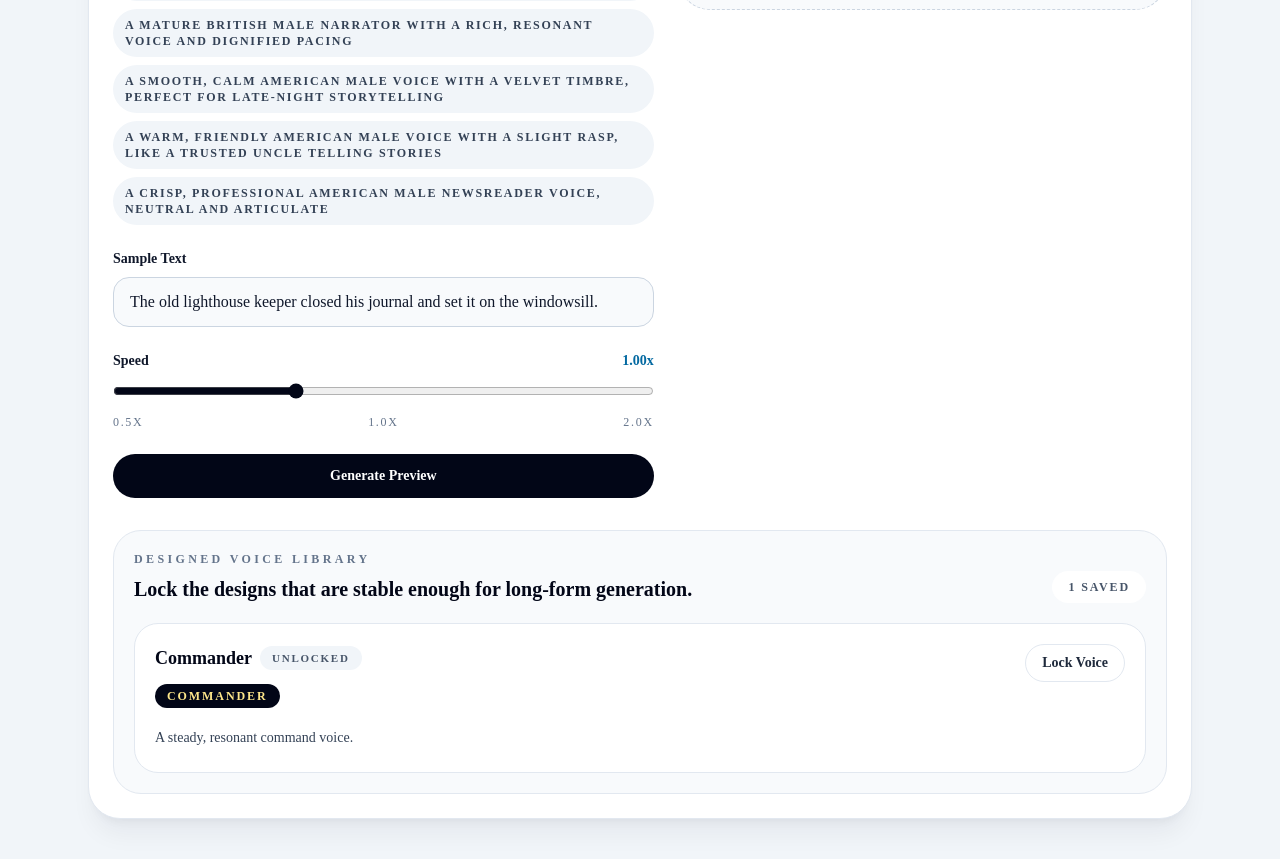
Test: VoiceLab page › locks and unlocks a designed voice from the designed voice library
(page scrolled)
Expected: the element that starts with "Commander" shows "Unlocked", [272,652,350,664]
Step 1. Click the button "Lock Voice" → (1075, 663), box [1025,644,1125,682]
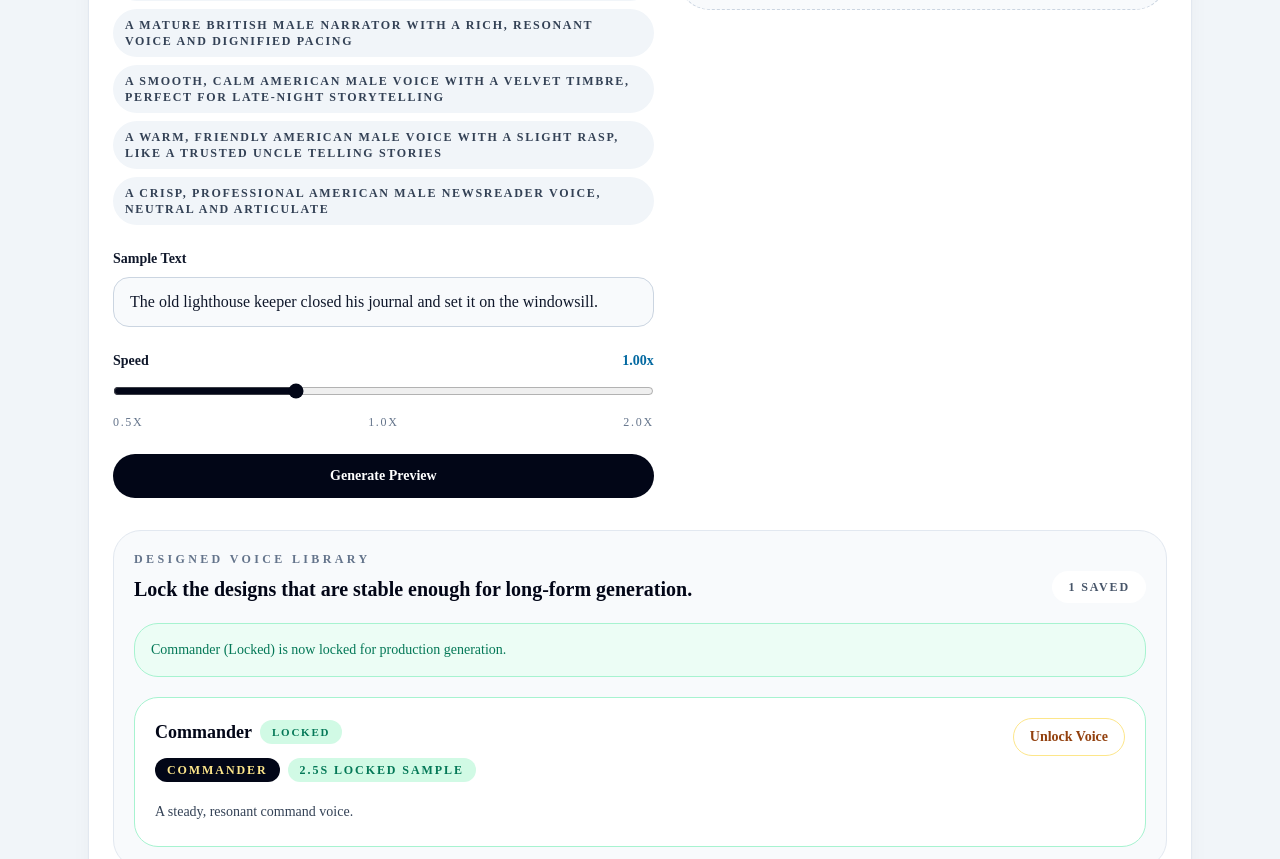
Expected: the element that starts with "Commander" shows "Locked", [272,726,330,738]
Expected: the text "Commander (Locked) is now locked for production generation." is shown, [134,623,1146,677]
Expected: the element that starts with "Commander" shows "Unlock Voice"
Step 2. Click the button "Unlock Voice" → (1069, 737), box [1013,718,1125,756]
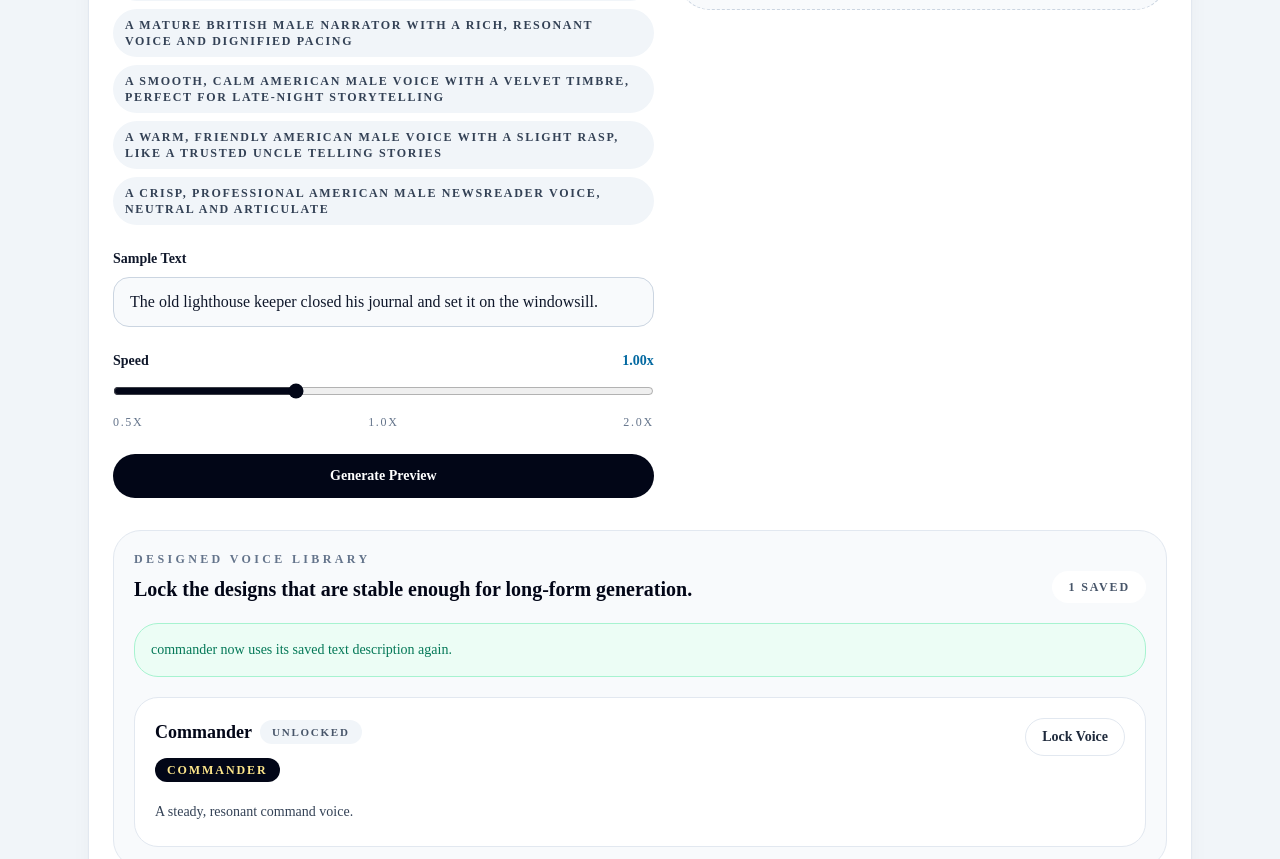
Expected: the element that starts with "Commander" shows "Lock Voice", [1025,718,1125,756]
Expected: the text "commander now uses its saved text description again." is shown, [134,623,1146,677]
Expected: the element that starts with "Commander" shows "Unlocked", [272,726,350,738]
